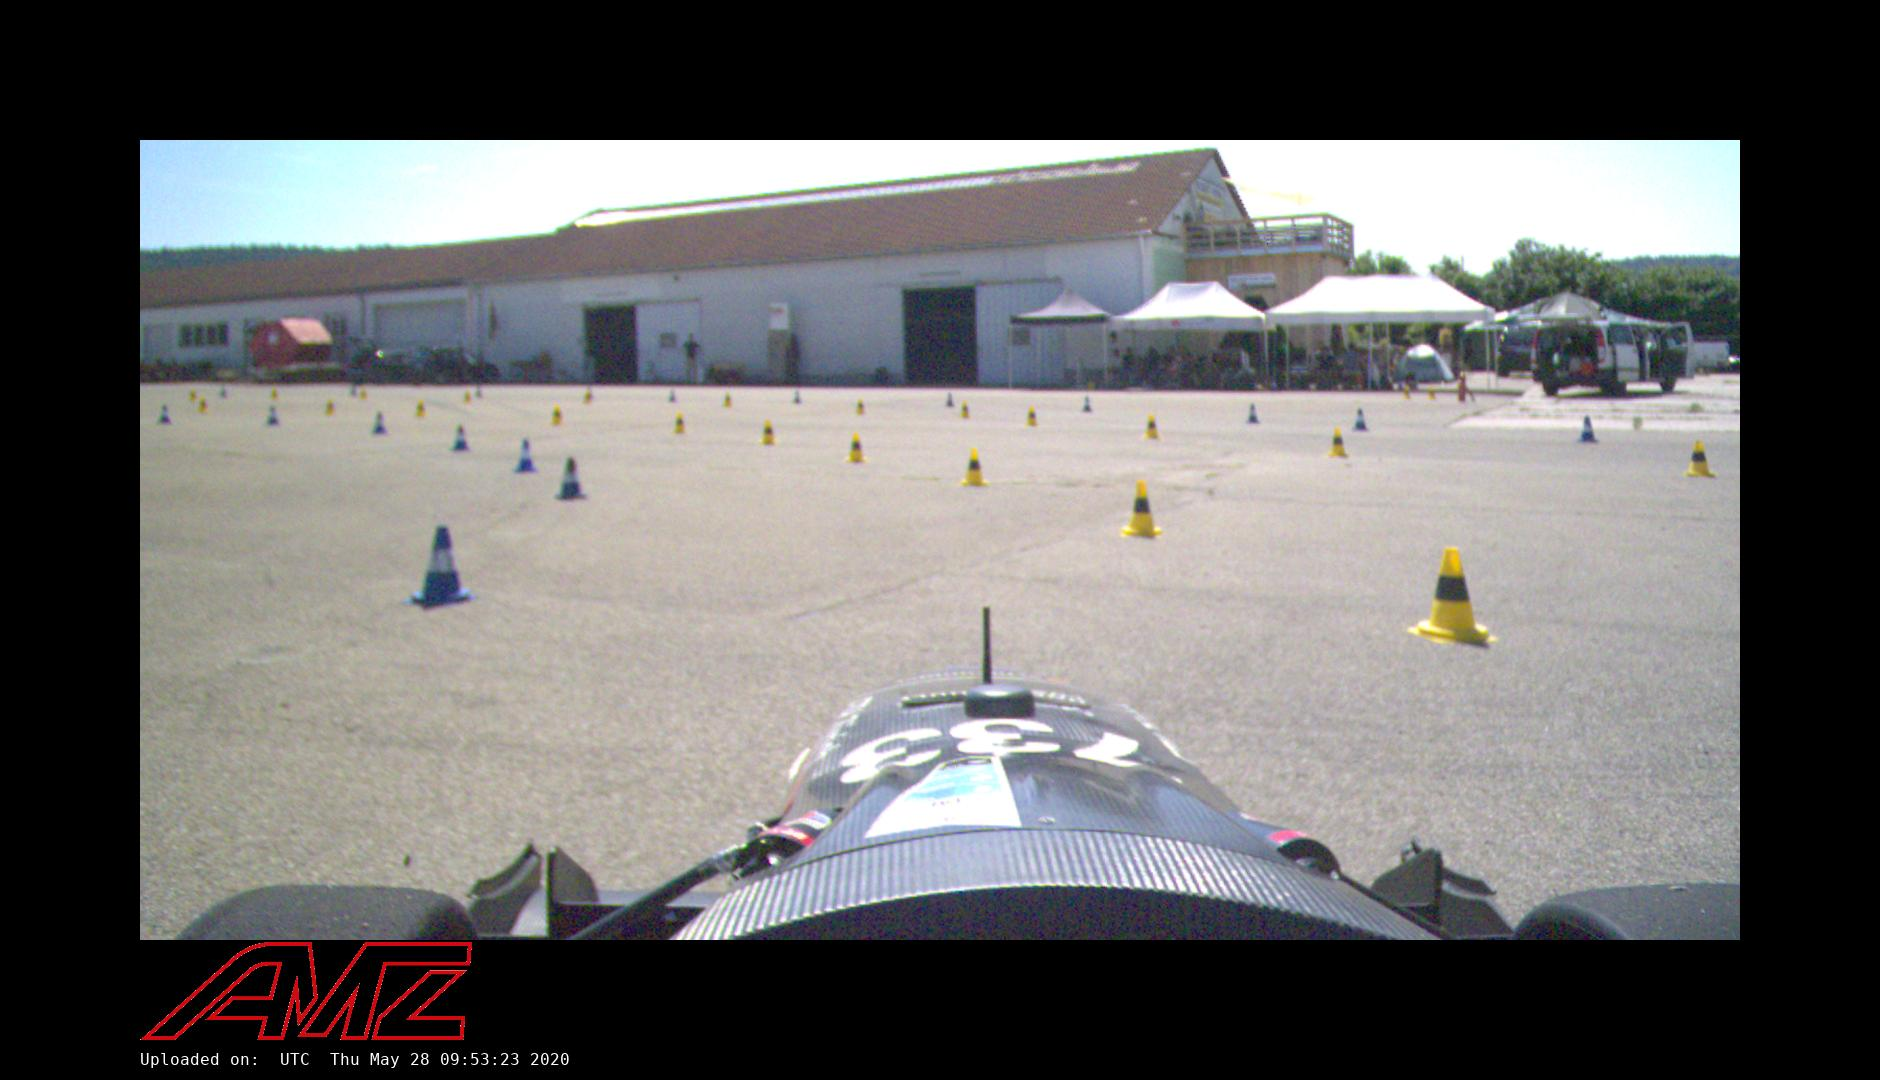blue_cone: (401, 523, 477, 609), (555, 457, 586, 501), (513, 438, 536, 473), (1576, 411, 1599, 443), (1351, 401, 1372, 431), (450, 423, 471, 451), (368, 410, 389, 434), (1244, 397, 1262, 423), (155, 404, 173, 424), (265, 403, 281, 425), (1080, 393, 1094, 413), (943, 391, 957, 407), (791, 388, 803, 404), (581, 388, 593, 403), (667, 390, 677, 403), (217, 386, 227, 399), (474, 385, 482, 397), (350, 385, 358, 396)
yellow_cone: (1405, 546, 1497, 646), (1121, 481, 1161, 537), (1683, 440, 1717, 477), (959, 447, 988, 486), (1322, 422, 1351, 458), (844, 430, 866, 462), (1140, 410, 1163, 439), (758, 419, 778, 446), (669, 411, 688, 434), (547, 404, 565, 426), (1023, 403, 1040, 425), (412, 398, 428, 418), (853, 394, 867, 416), (321, 396, 337, 415), (196, 395, 210, 413), (959, 401, 972, 419), (721, 391, 734, 407), (462, 389, 473, 403), (359, 388, 369, 400), (270, 388, 279, 399)
